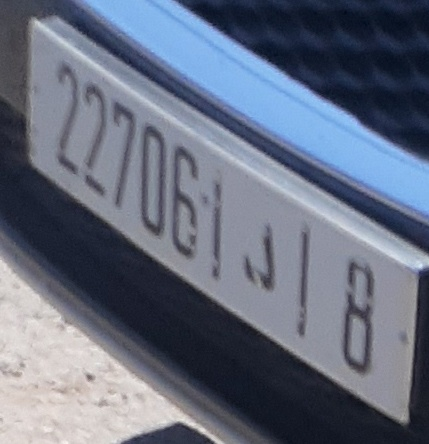0: (137, 117, 169, 238)
2: (48, 55, 80, 180), (77, 78, 110, 192)
6: (167, 142, 197, 260)
7: (106, 99, 138, 210)
8: (338, 248, 379, 374)
d: (235, 209, 282, 299)
